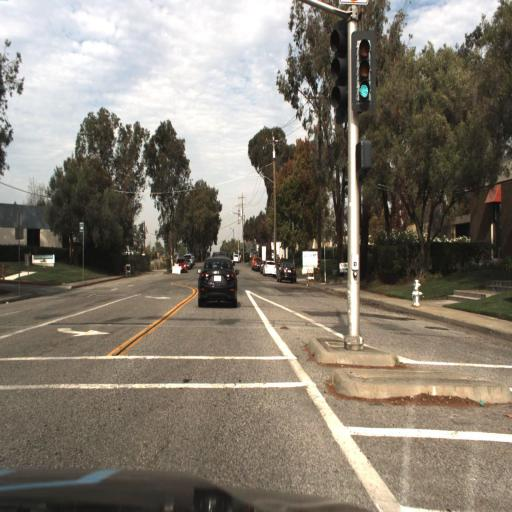car: (193, 251, 238, 309), (276, 254, 297, 283), (275, 260, 296, 285), (260, 255, 279, 282), (172, 254, 189, 275)
trafficLight-Green: (353, 32, 373, 106)
